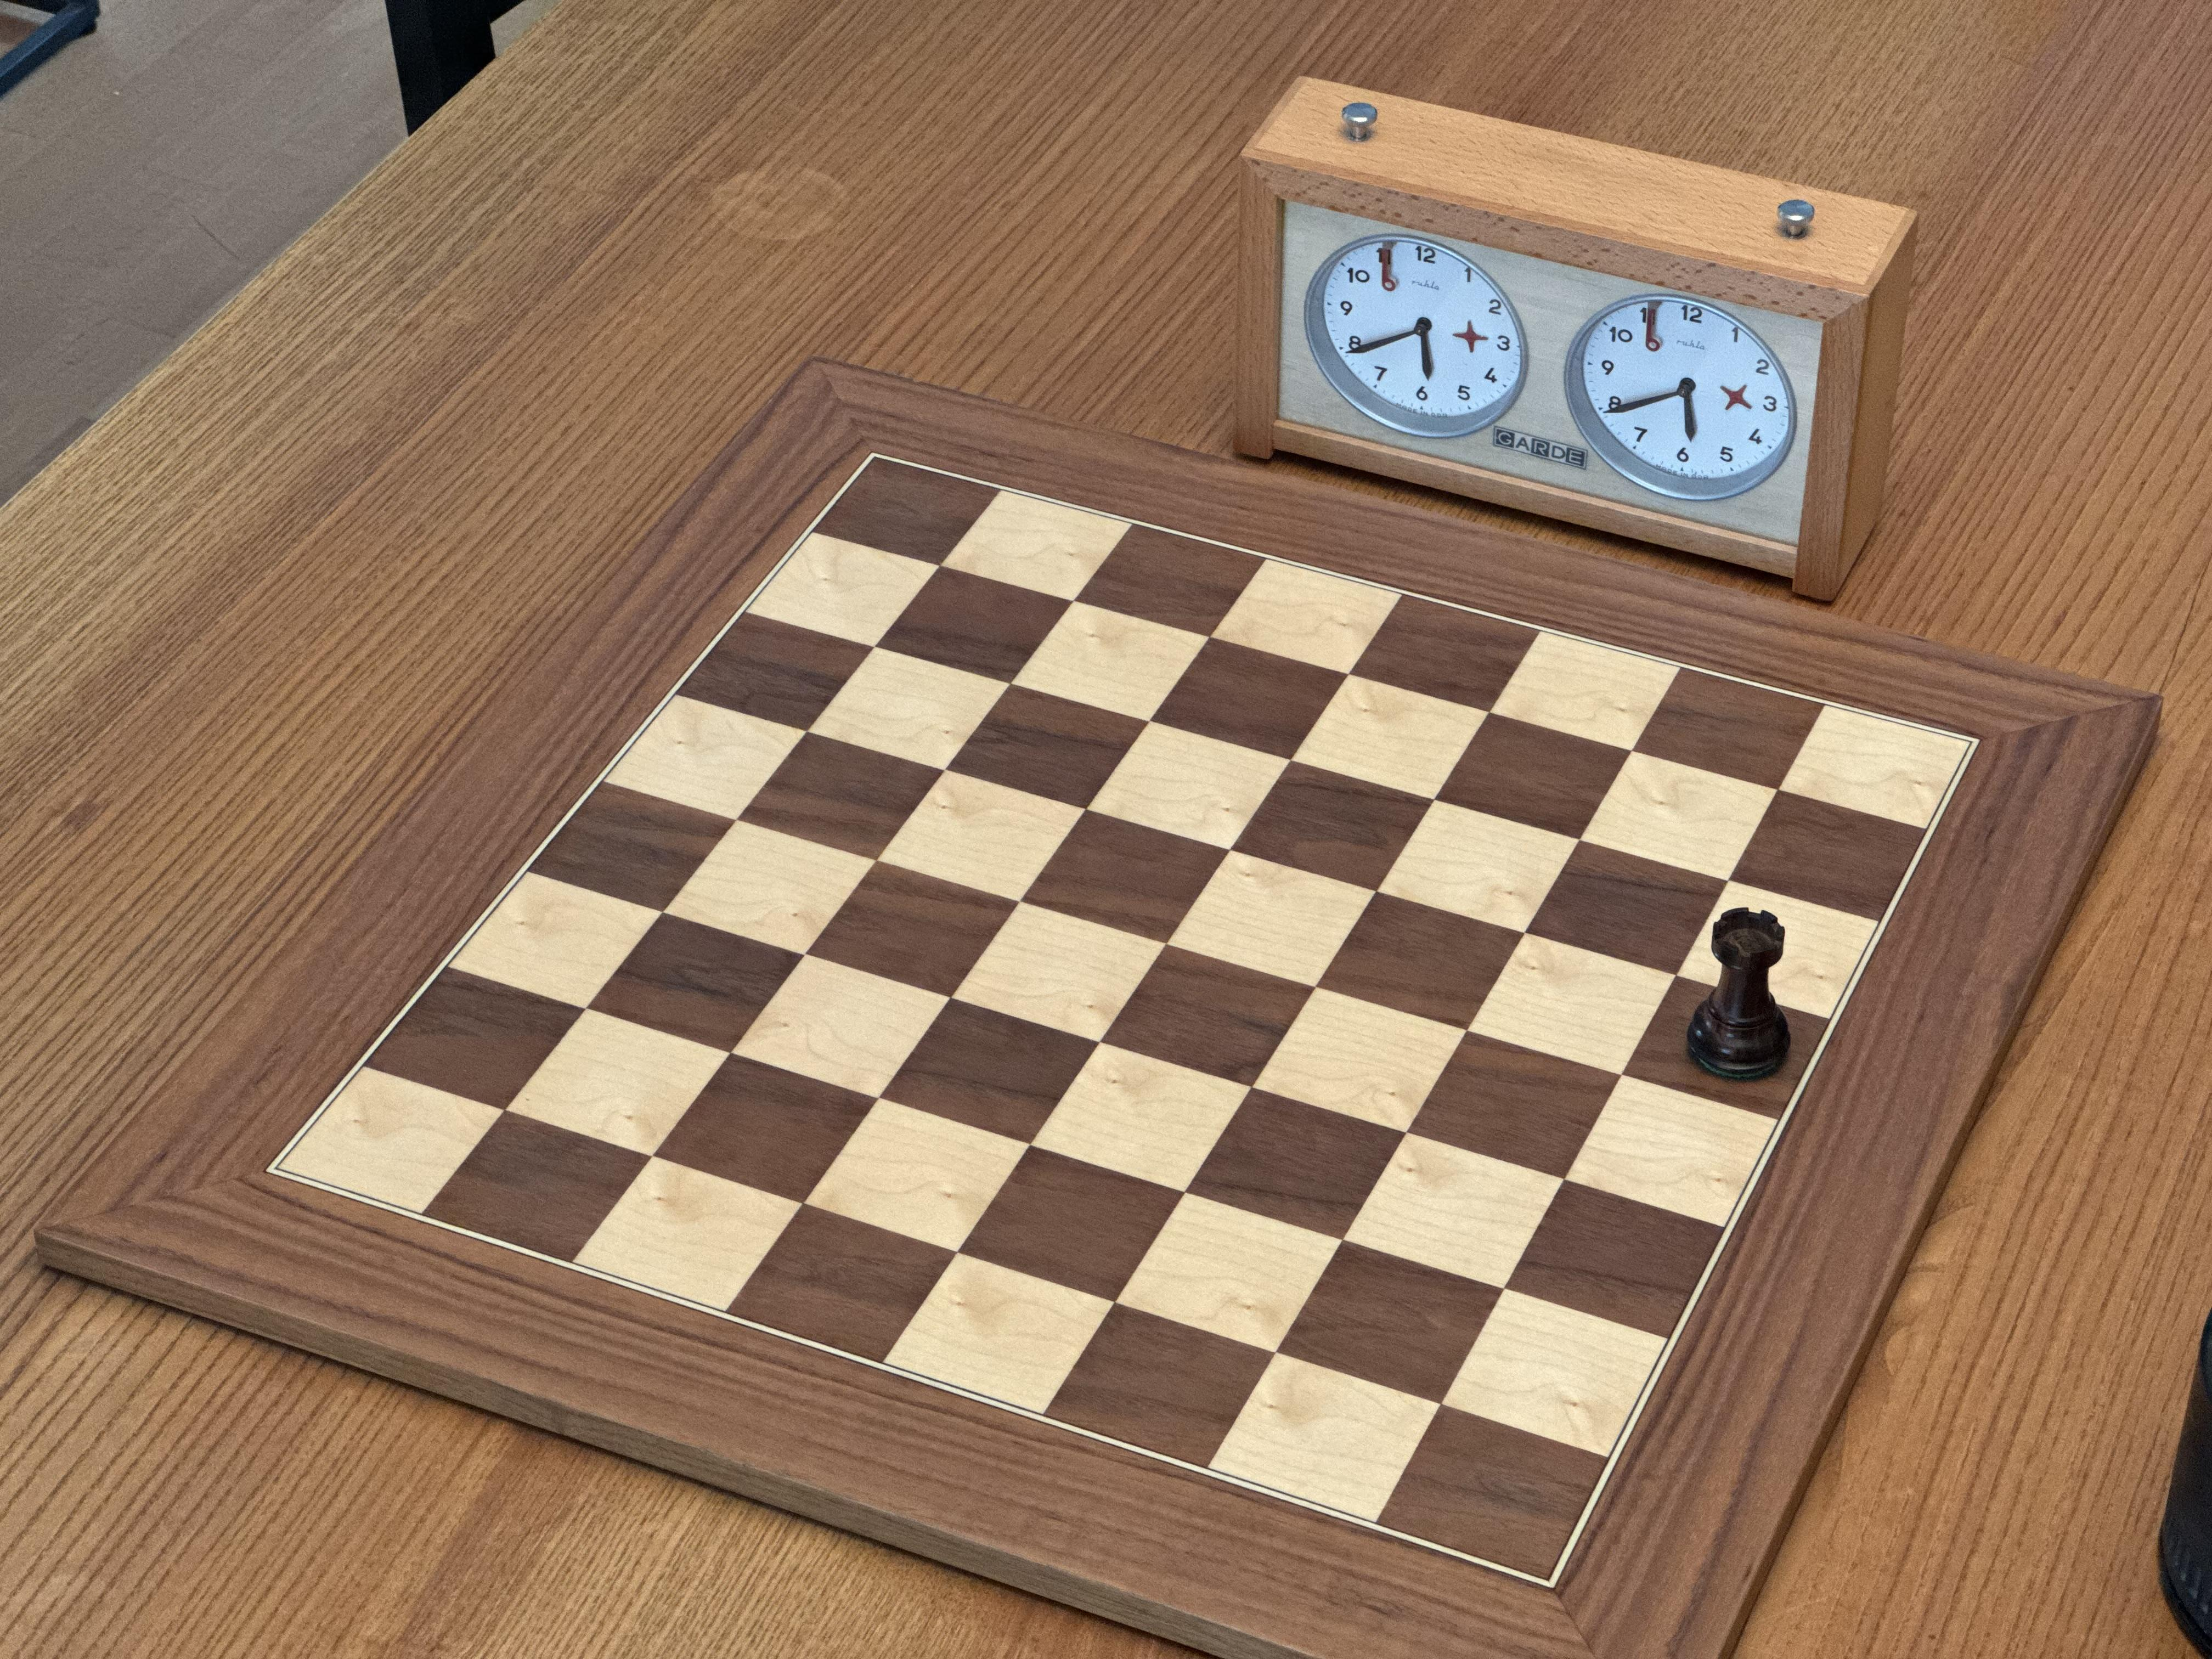Black Rook: (1675, 894, 1798, 1088)
